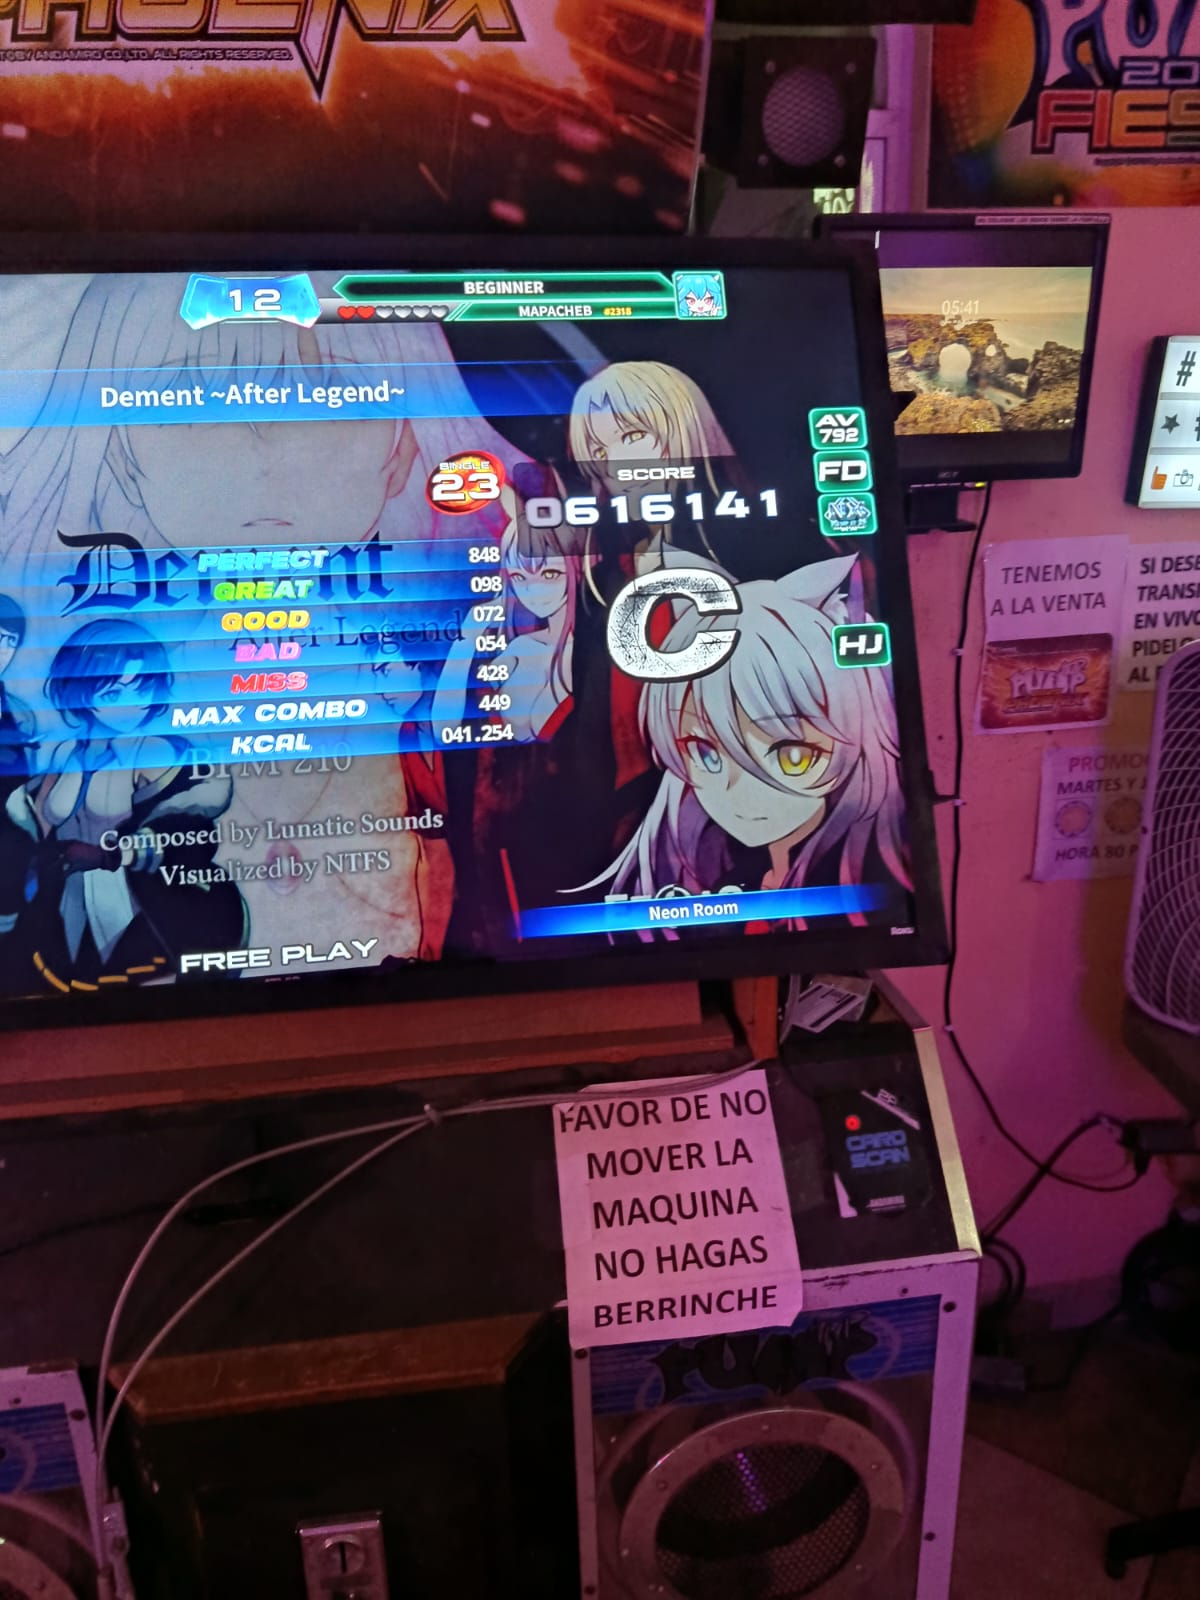difficulty: (402, 440, 500, 514)
fullscore: (103, 214, 993, 949)
rank: (591, 577, 763, 697)
score: (524, 459, 784, 557)
song_name: (93, 360, 373, 435)
